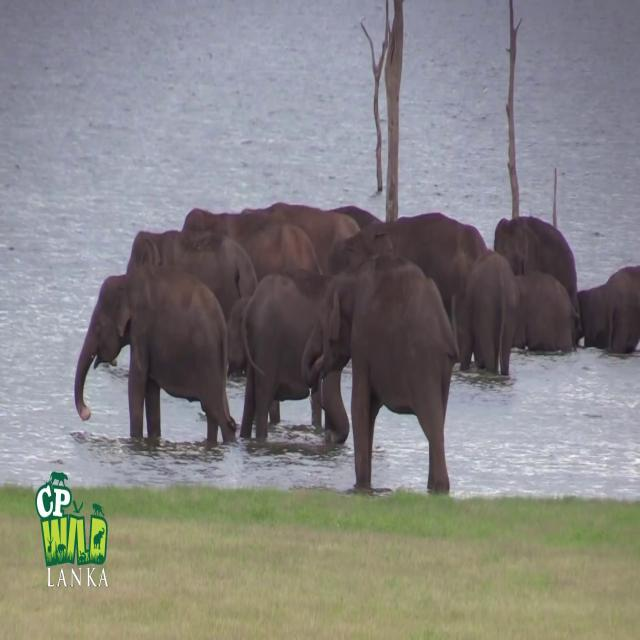Elephant: (302, 253, 459, 494), (74, 263, 237, 444), (238, 269, 352, 443), (576, 264, 640, 354)
